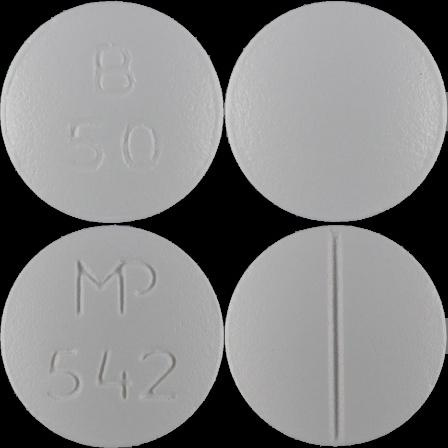63629-5321: (0, 0, 224, 224)
